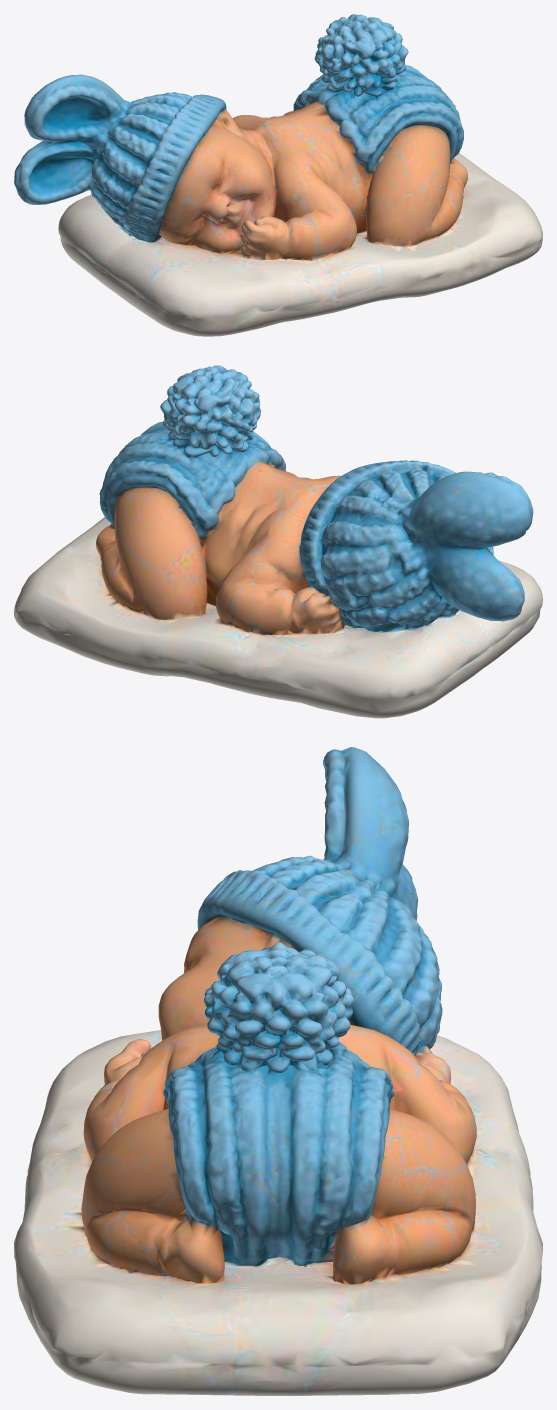
The picture shows the model from 3 angles, top to bottom: view 1: azimuth 30°, elevation 25°; view 2: azimuth 150°, elevation 25°; view 3: azimuth 270°, elevation 25°; orthographic projection. The views are drawn at different scales.
Size of the model in its own units: 1.9 by 0.9086 by 1.23.
Materials: 1 (1 with a texture image).
